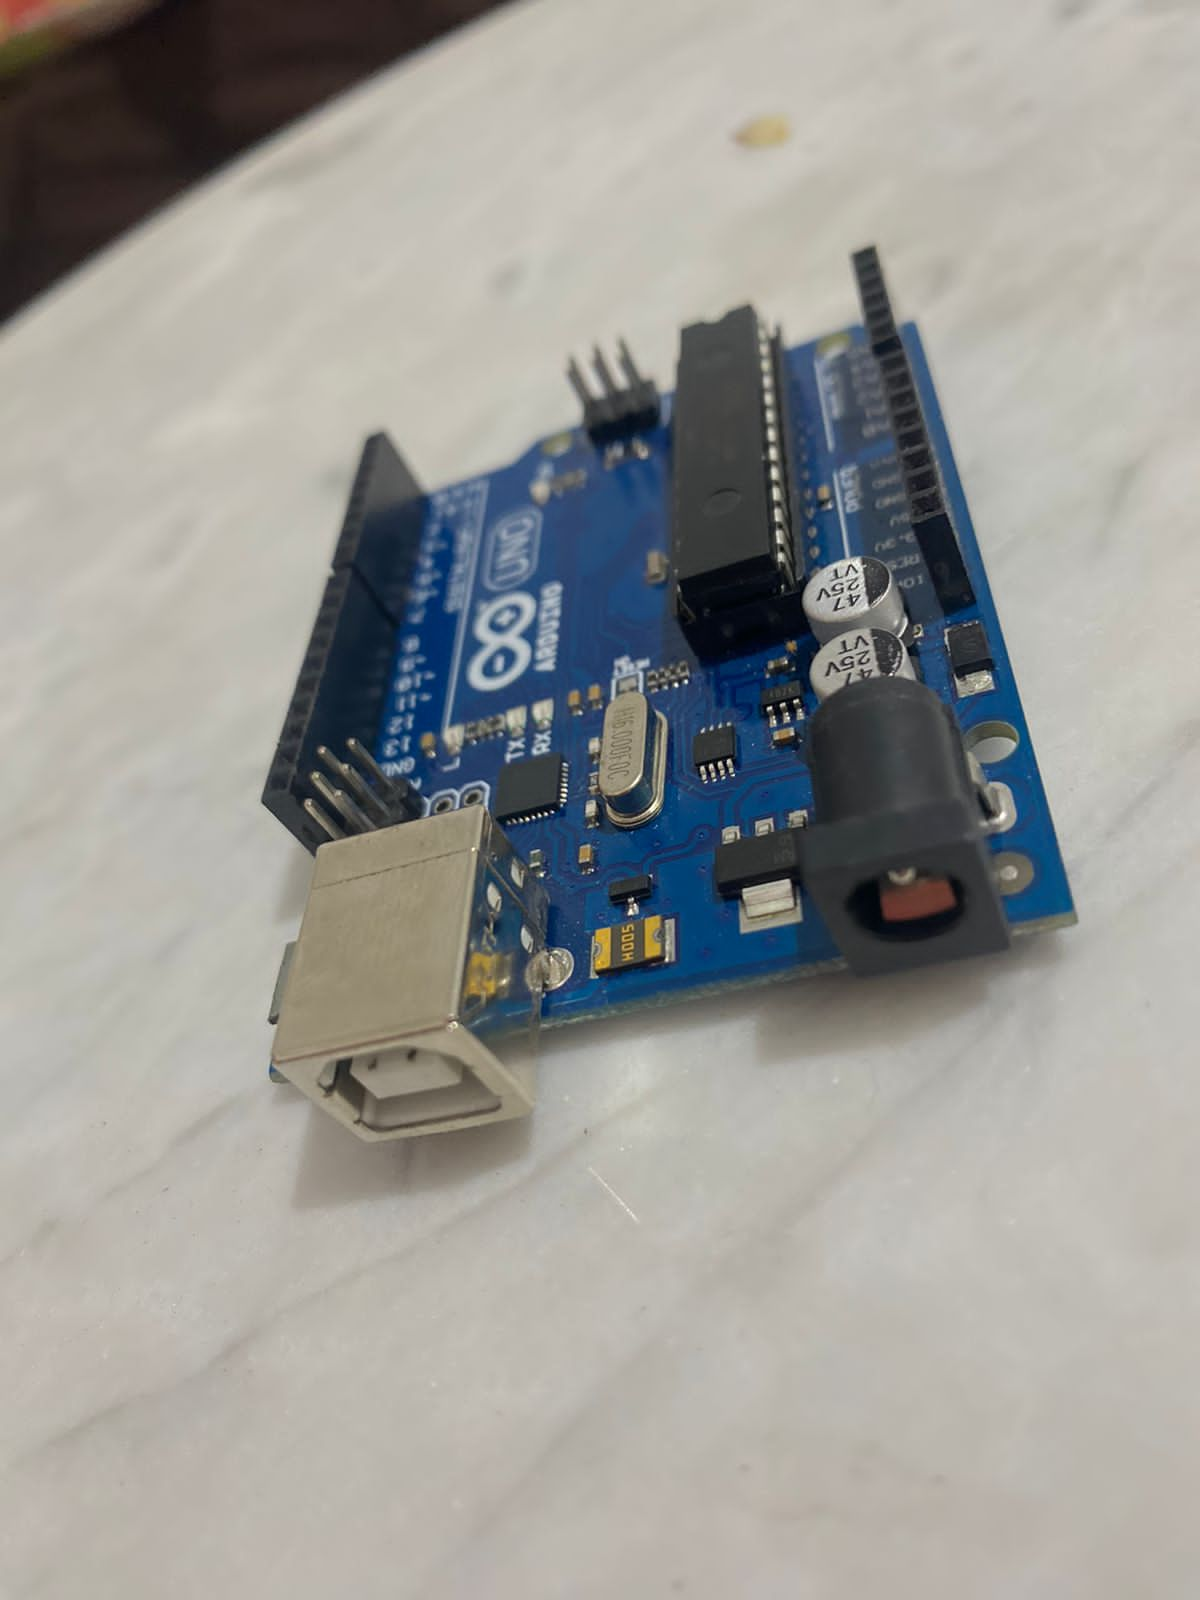arduino-uno: (252, 239, 1082, 1150)
